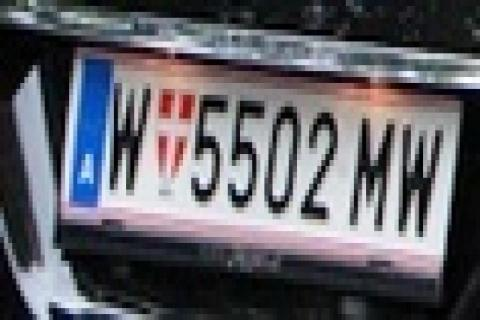LicensePlate: (58, 41, 448, 280)
